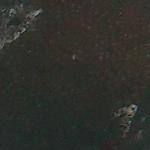alive: (1, 4, 147, 148)
